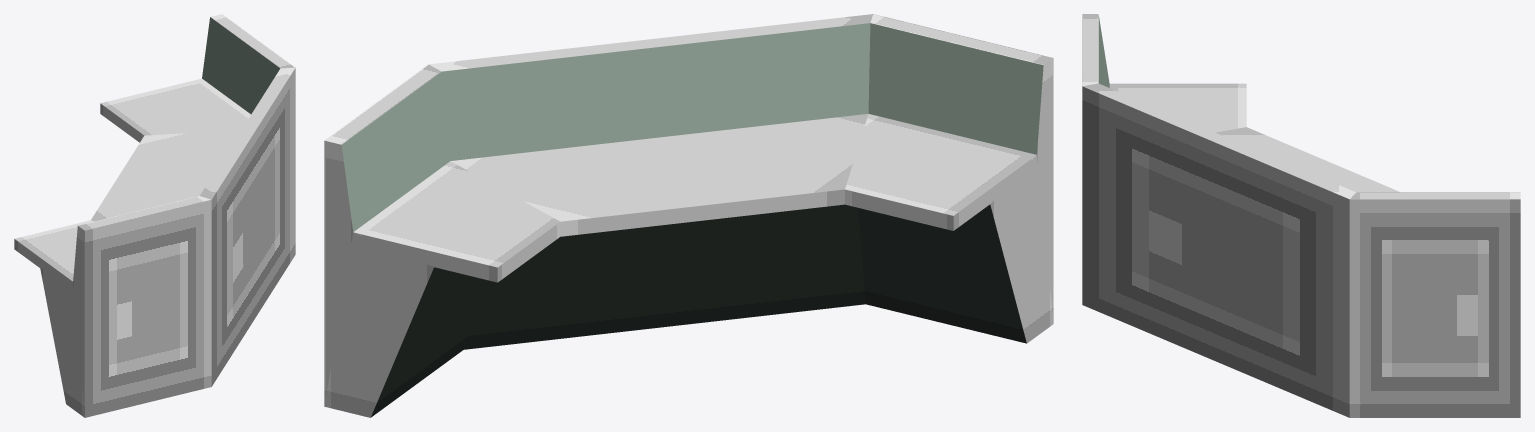
File: desk_corner_inside_1_item.obj
3 views of the same model, side by side, from view 1: azimuth 30°, elevation 25°; view 2: azimuth 150°, elevation 25°; view 3: azimuth 270°, elevation 25° (orthographic). The views are drawn at different scales.
Size of the model in its own units: 2 by 1.1 by 2.
